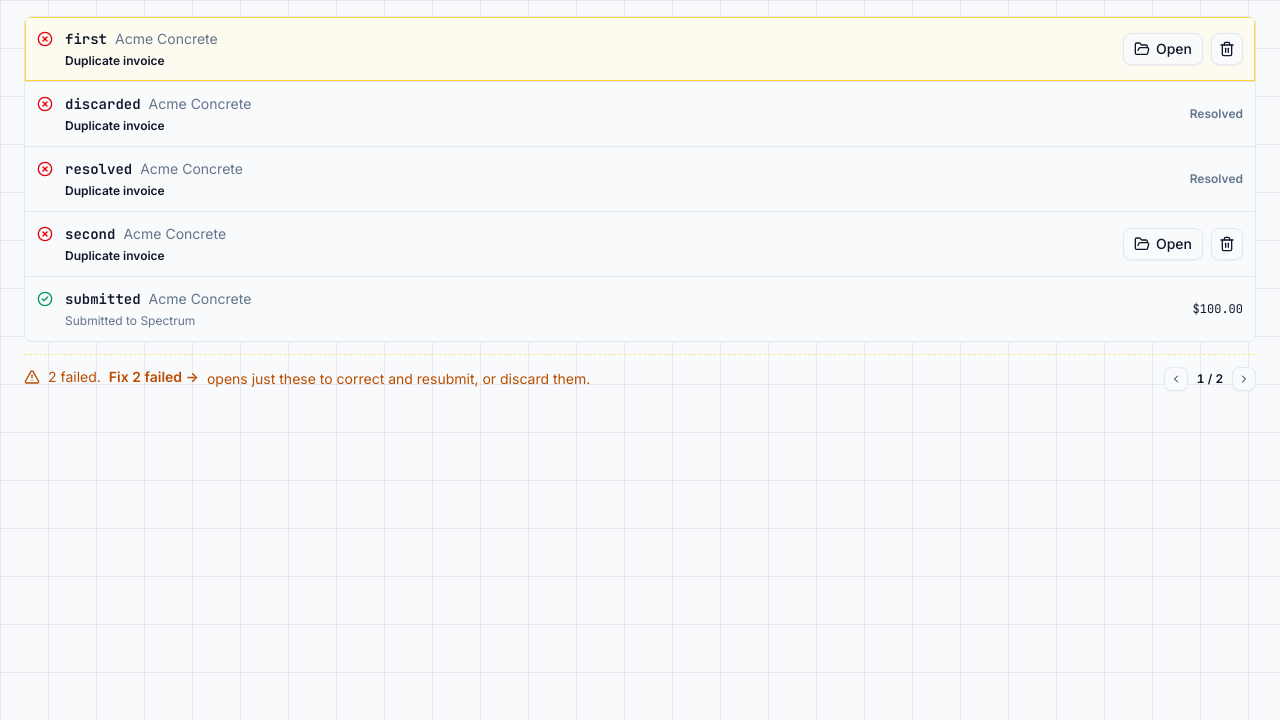
Test case: SpectrumSubmitResultsView › cycles previous and next controls through unresolved failures only
Check: the text named "Current unresolved failure" reads "1 / 2", box [1197,371,1223,386]
Check: the text "first" is shown, box [65,30,107,48]
Click the button named "Next unresolved failure" at x=1244, y=379, box [1232,367,1256,391]
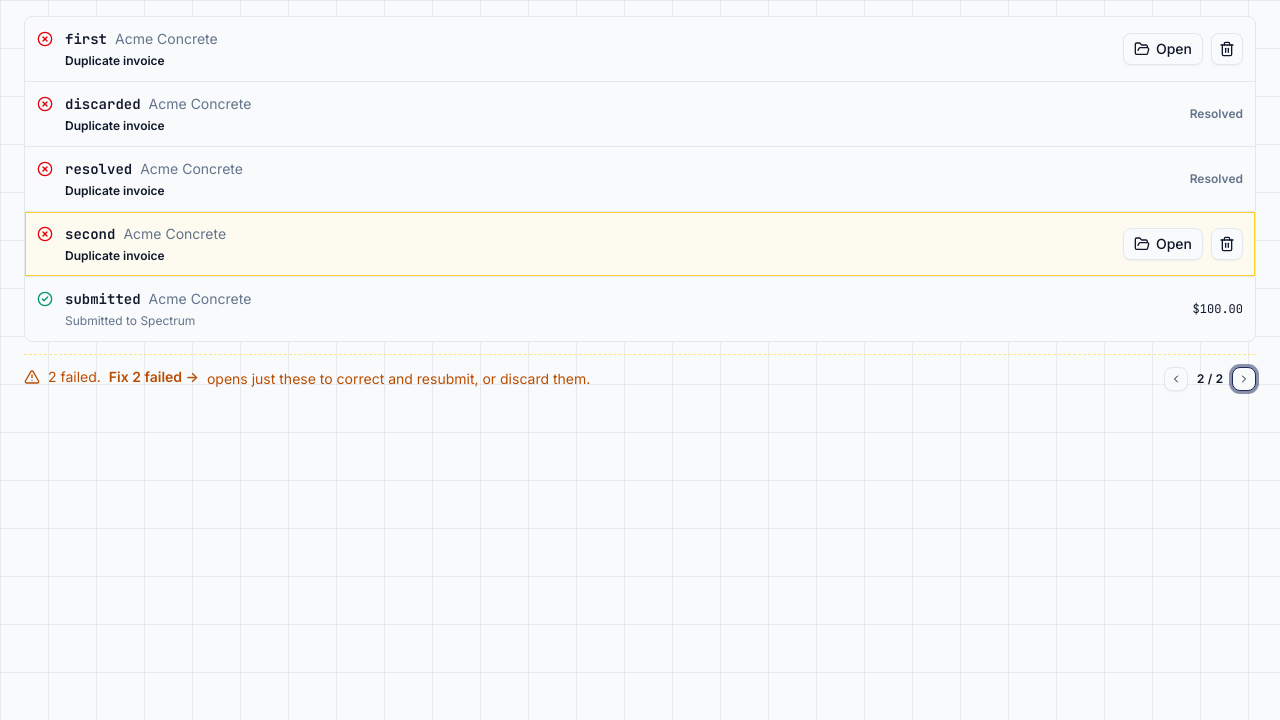
Check: the text "second" is shown, box [65,225,115,243]
Check: the text named "Current unresolved failure" reads "2 / 2", box [1197,371,1223,386]
Click the button named "Next unresolved failure" at x=1244, y=379, box [1232,367,1256,391]
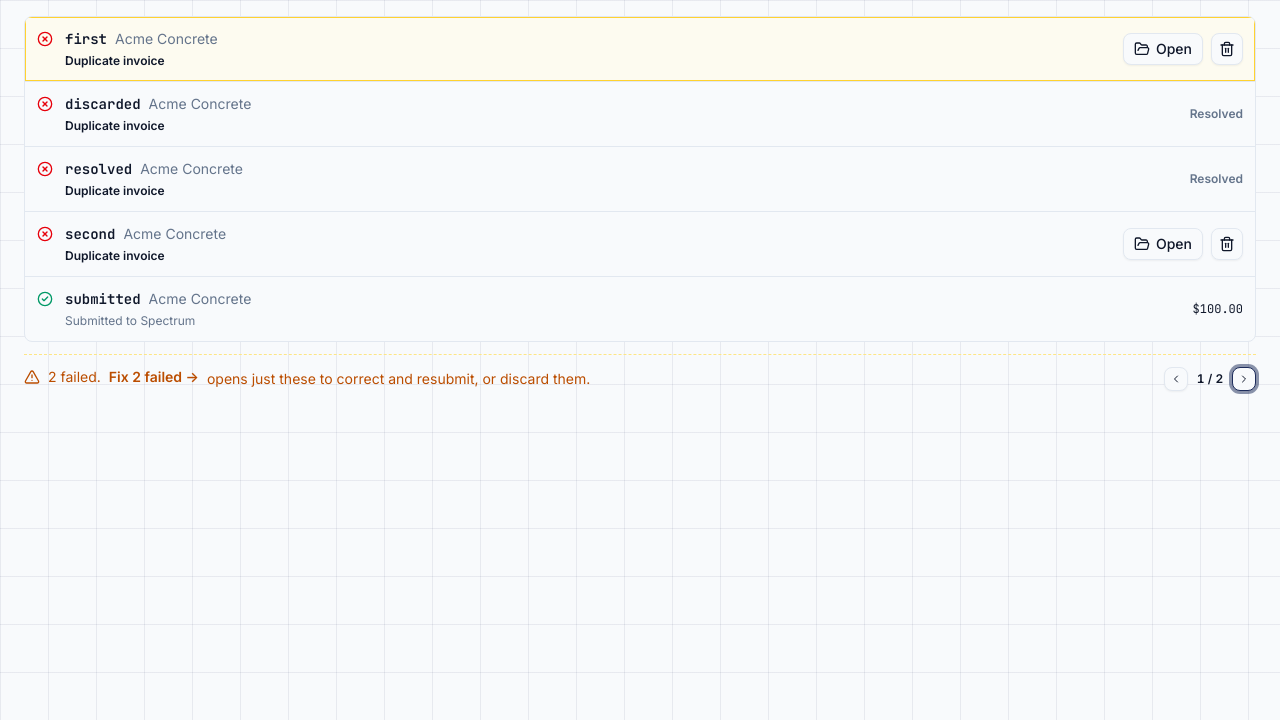
Check: the text "first" is shown, box [65,30,107,48]
Check: the text named "Current unresolved failure" reads "1 / 2", box [1197,371,1223,386]
Click the button named "Previous unresolved failure" at x=1176, y=379, box [1164,367,1188,391]
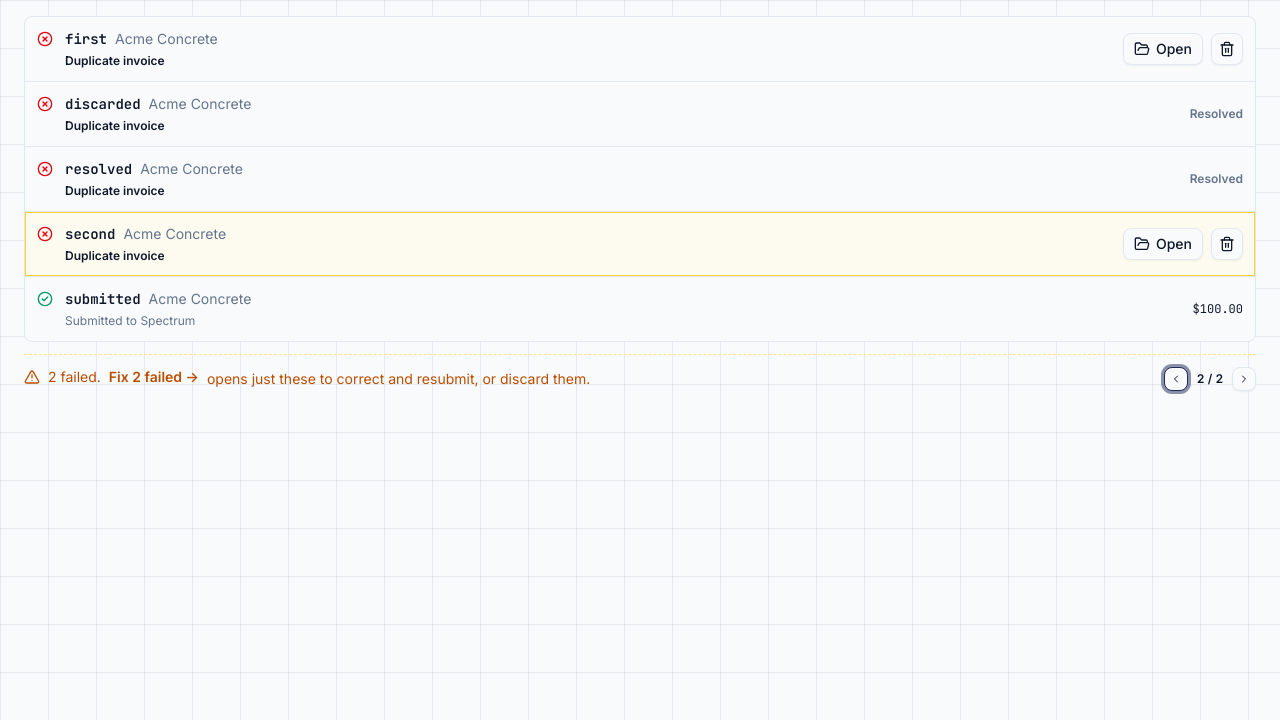
Check: the text "second" is shown, box [65,225,115,243]
Check: the text named "Current unresolved failure" reads "2 / 2", box [1197,371,1223,386]
